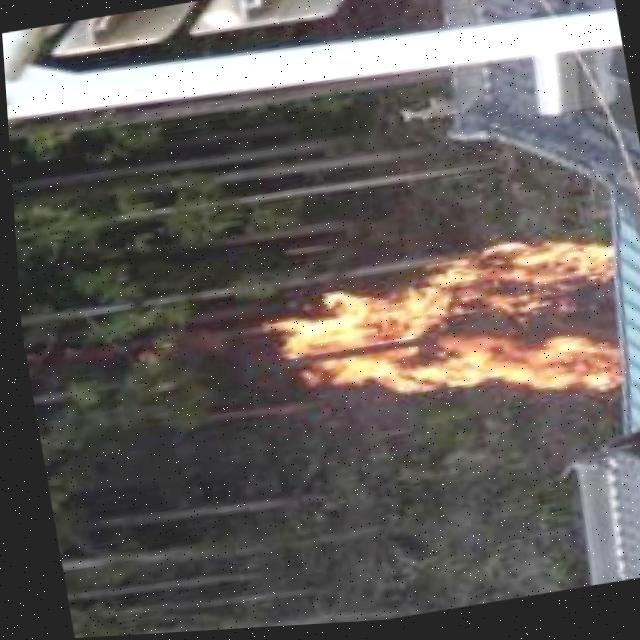Fire: (269, 229, 638, 445)
